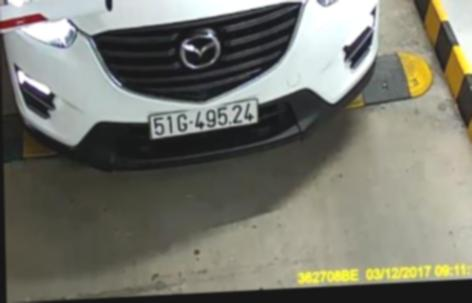License_Plate: (148, 100, 261, 138)
